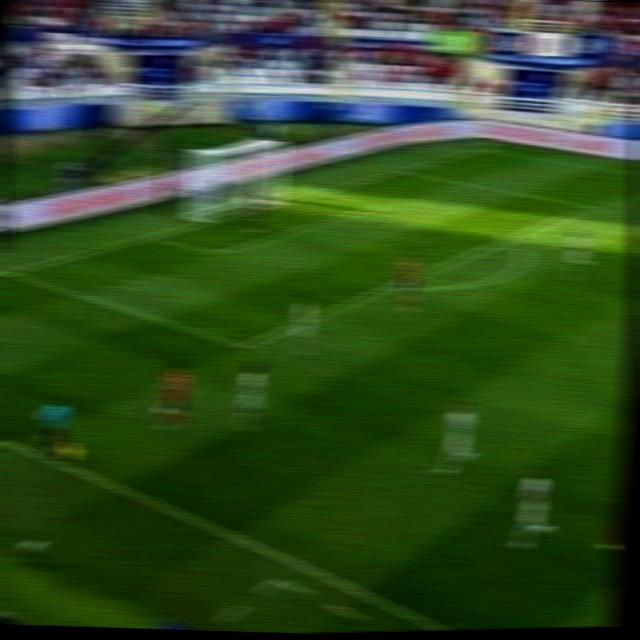bigarea_bottom_inner: (228, 330, 259, 360)
bigarea_bottom_outter: (0, 260, 23, 284)
bigarea_top_inner: (577, 197, 603, 215)
bigarea_top_outter: (390, 161, 415, 178)
bottom_arc_area_intersection: (382, 275, 406, 296)
corner: (472, 140, 495, 155)
smallarea_bottom_inner: (206, 243, 231, 264)
smallarea_bottom_outter: (140, 225, 168, 247)
smallarea_top_inner: (364, 194, 393, 214)
smallarea_top_outter: (312, 182, 338, 200)
top_arc_area_intersection: (499, 230, 523, 247)
